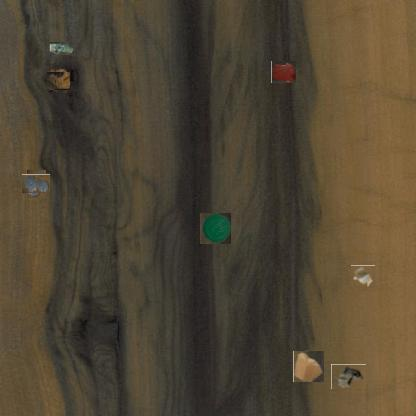dirty: (200, 212, 232, 244), (293, 350, 324, 382), (331, 364, 366, 389), (352, 265, 375, 289), (48, 70, 69, 92), (46, 41, 74, 55)
liquid: (25, 172, 48, 196), (272, 61, 295, 84)
